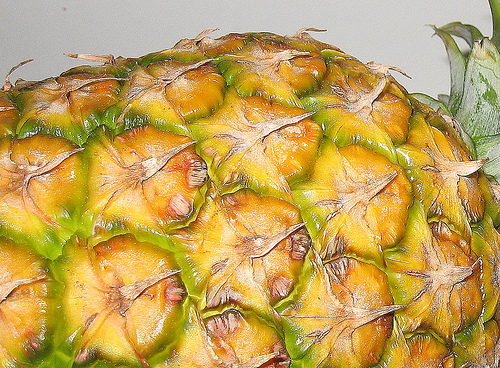pineapple: (1, 0, 499, 367)
